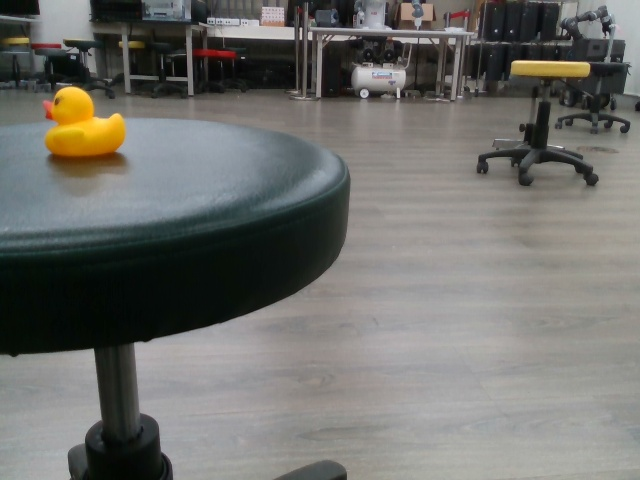duck: (35, 80, 131, 163)
